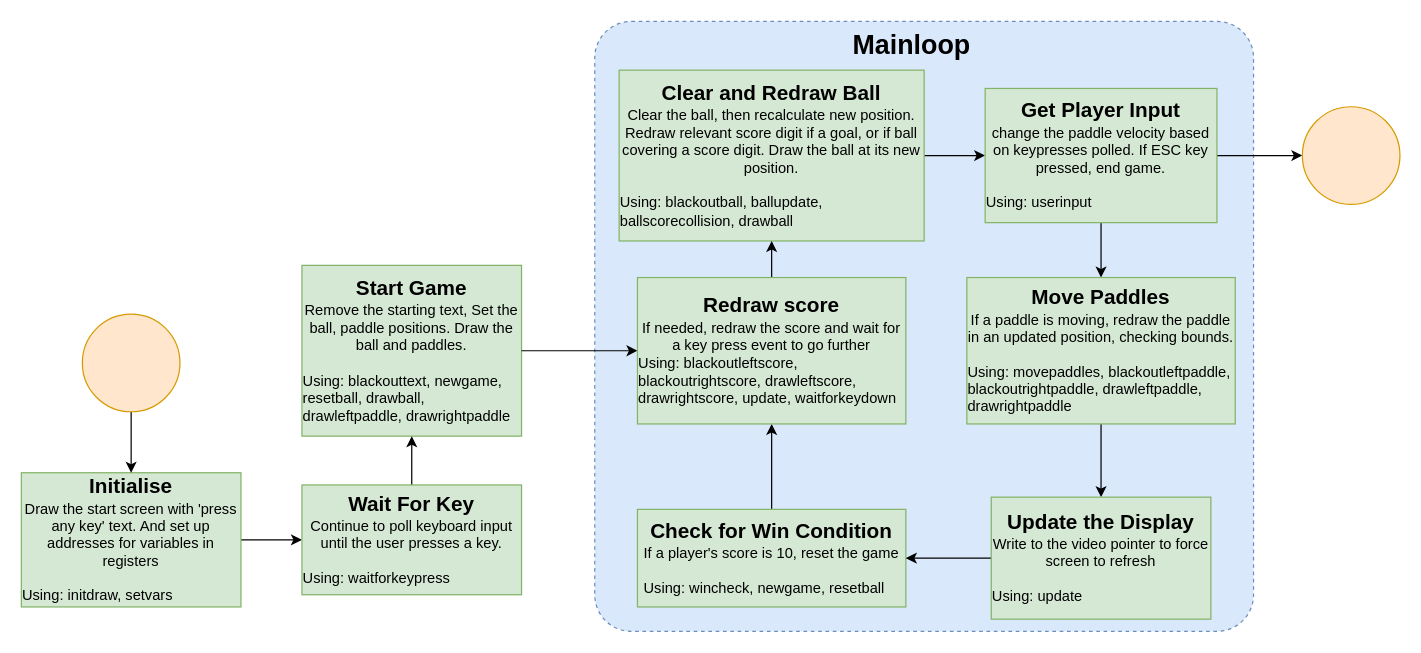
This 1421x653 diagram has some shape labels left out. The shapes that lost their labels are listed below. From the top down, each one's box as (x1, y1, x2, y2) in pixels, then its label:
(1301, 106, 1400, 204): halt
(81, 313, 180, 412): start
